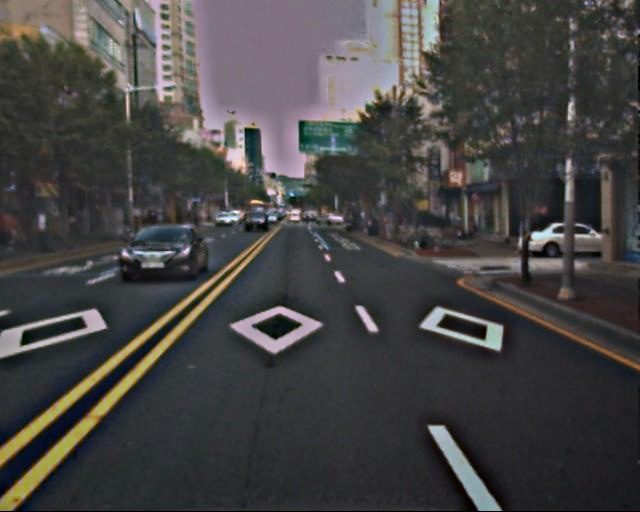person: (34, 208, 53, 254)
